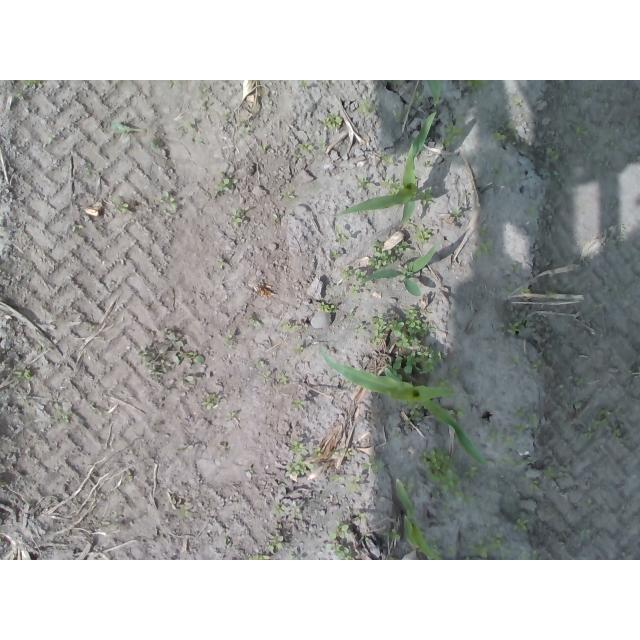Maize: (322, 350, 491, 467), (334, 113, 434, 227), (394, 476, 445, 560), (360, 245, 437, 297), (425, 81, 443, 104)
Weeds: (354, 306, 444, 375), (138, 328, 205, 382), (422, 448, 479, 508), (583, 407, 625, 441), (368, 240, 415, 269), (468, 536, 504, 560), (334, 522, 355, 560), (512, 405, 539, 432), (341, 266, 366, 295), (443, 126, 464, 151), (505, 320, 535, 337), (272, 505, 304, 520), (477, 227, 493, 257), (416, 224, 437, 245), (159, 190, 178, 210), (490, 432, 512, 448), (361, 460, 386, 473), (464, 80, 488, 93), (268, 535, 285, 553), (216, 177, 236, 192), (325, 112, 343, 128), (287, 461, 306, 476), (512, 516, 529, 532), (348, 475, 364, 492), (110, 120, 130, 133), (384, 527, 400, 543), (407, 406, 423, 422), (202, 395, 218, 411), (419, 192, 434, 209), (12, 368, 33, 380), (447, 406, 465, 419), (545, 146, 560, 161), (383, 180, 400, 193), (357, 102, 375, 114), (231, 209, 246, 223), (356, 179, 370, 194), (511, 459, 530, 470), (318, 303, 336, 314), (528, 479, 542, 493), (431, 539, 444, 554), (295, 143, 312, 154), (116, 199, 129, 213), (544, 466, 557, 479), (530, 358, 543, 371), (404, 482, 417, 495), (278, 372, 290, 385), (281, 191, 295, 202), (289, 443, 303, 454), (447, 546, 458, 559), (337, 228, 348, 240), (494, 132, 507, 142), (21, 81, 39, 88), (344, 448, 355, 459), (448, 366, 460, 376), (438, 375, 450, 385), (576, 127, 589, 136), (251, 554, 270, 560), (509, 352, 519, 363), (255, 359, 266, 369), (383, 155, 394, 165), (293, 399, 304, 409), (450, 207, 459, 219), (61, 415, 72, 424), (312, 448, 323, 457), (355, 512, 366, 521), (254, 319, 263, 329), (331, 474, 342, 482), (299, 80, 310, 88), (296, 345, 305, 354), (520, 288, 530, 295)
